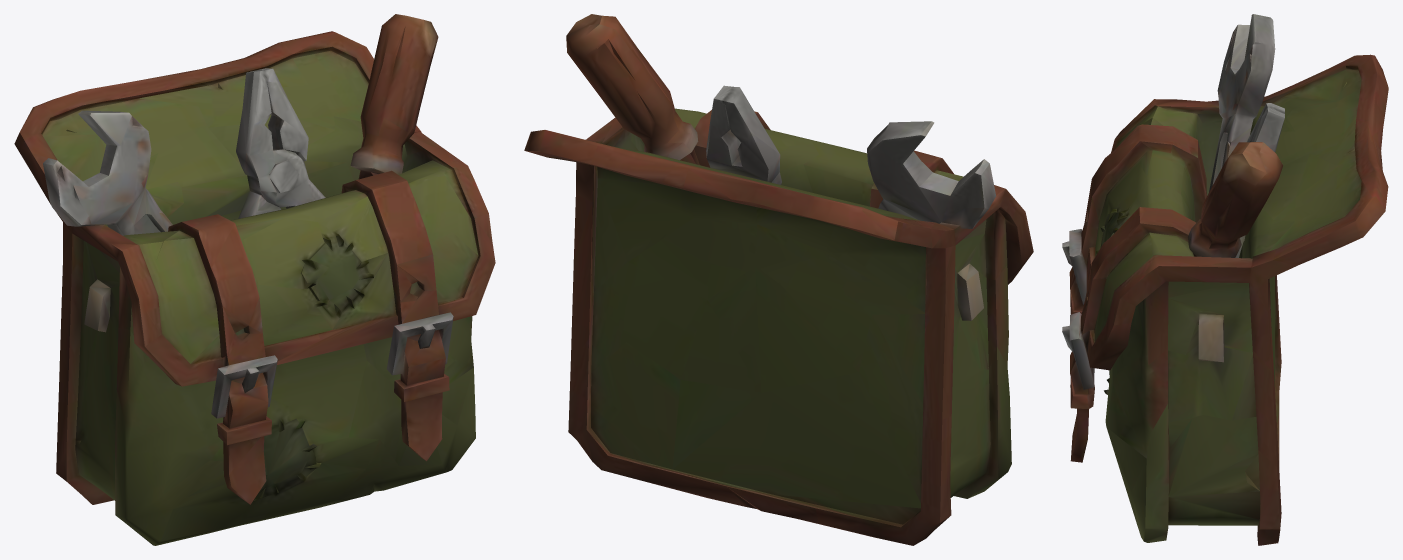
Rendered from repair_kit_malyy_nabor_idle.glb.
3 views of the same model, side by side, from view 1: azimuth 30°, elevation 25°; view 2: azimuth 150°, elevation 25°; view 3: azimuth 270°, elevation 25° (orthographic). The views are drawn at different scales.
Parts seen in each view (by area): view 1: tripo_node_97067a13-6aa8-49d0-9222-f68f5ead2233; view 2: tripo_node_97067a13-6aa8-49d0-9222-f68f5ead2233; view 3: tripo_node_97067a13-6aa8-49d0-9222-f68f5ead2233.
Boxes of the visible parts, x1=… form: tripo_node_97067a13-6aa8-49d0-9222-f68f5ead2233: x1=14, y1=14, x2=495, y2=545; tripo_node_97067a13-6aa8-49d0-9222-f68f5ead2233: x1=524, y1=14, x2=1033, y2=545; tripo_node_97067a13-6aa8-49d0-9222-f68f5ead2233: x1=1062, y1=14, x2=1388, y2=545.
Size of the model in its own units: 0.2501 by 0.2564 by 0.1851.
1 material, 1 textured.
